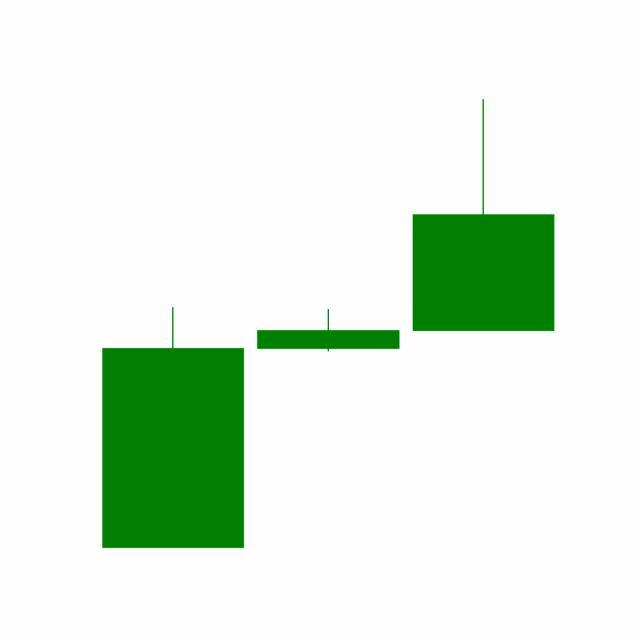Gravestone Doji: (250, 309, 407, 354)
